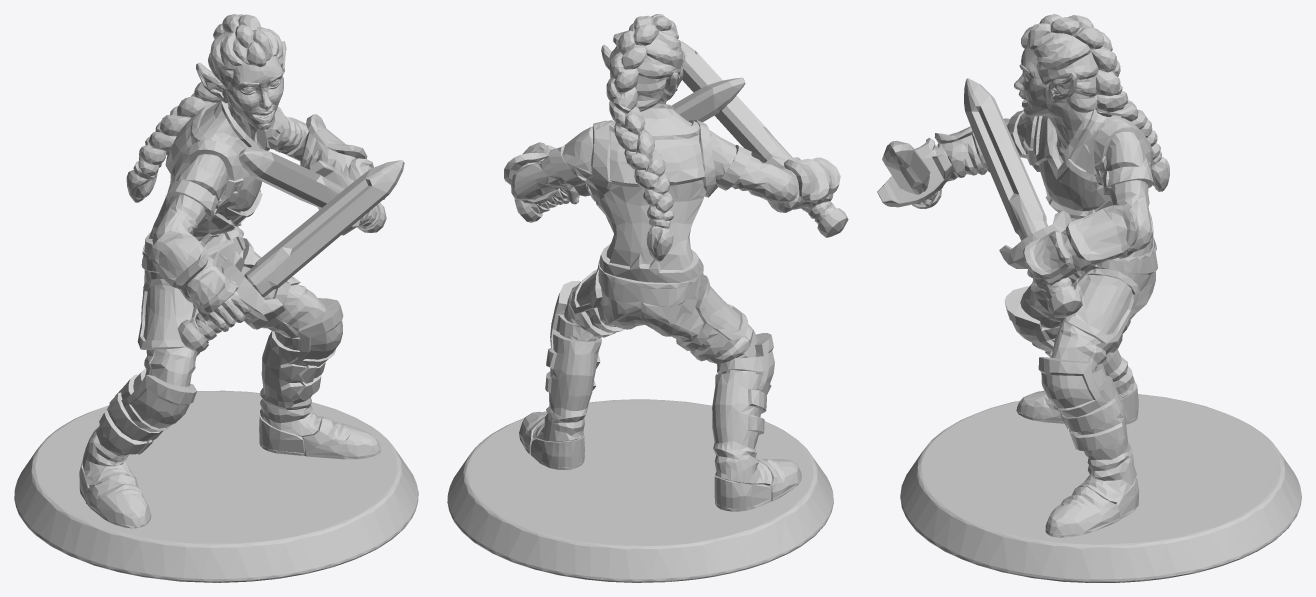
Rendered from Cerina.obj.
3 views of the same model, side by side, from view 1: azimuth 30°, elevation 25°; view 2: azimuth 150°, elevation 25°; view 3: azimuth 270°, elevation 25° (orthographic). The views are drawn at different scales.
Parts seen in each view (by area): view 1: Cerina; view 2: Cerina; view 3: Cerina.
Part boxes in pixels (box(x1,y1,x2,y2)): Cerina: box(14, 14, 418, 582); Cerina: box(447, 14, 848, 582); Cerina: box(877, 14, 1301, 582).
Size of the model in its own units: 0.9382 by 1.26 by 0.9943.
1 material, 1 textured.
